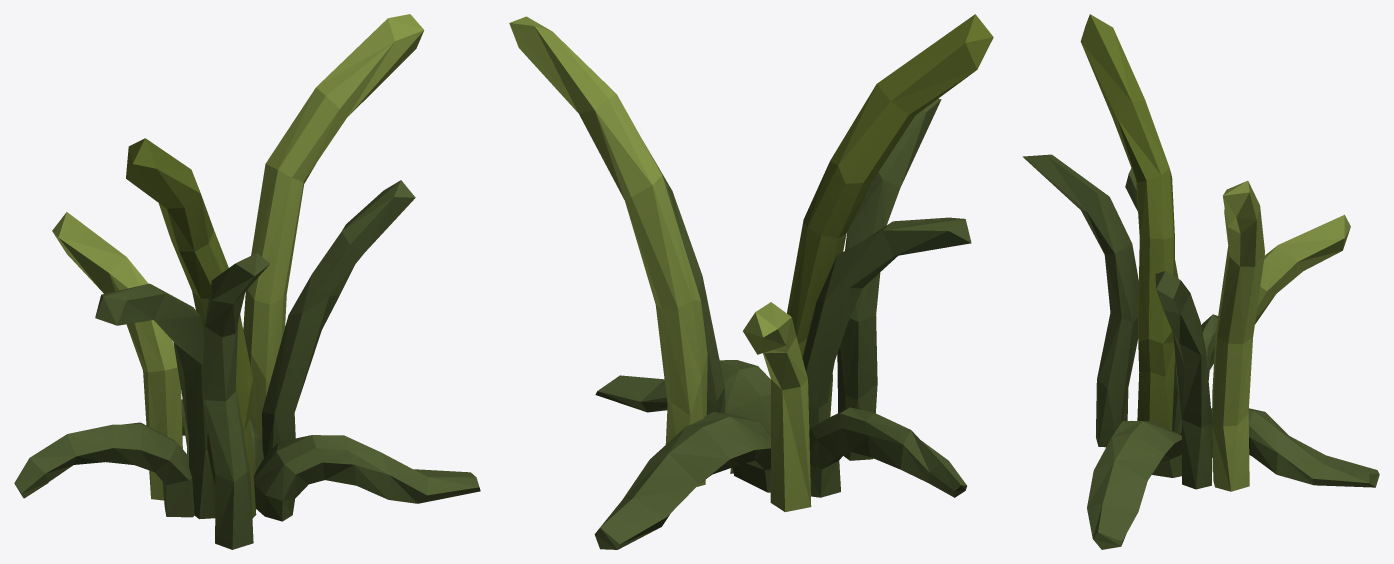
Rendered from swamp_grass_a.glb.
3 views of the same model, side by side, from view 1: azimuth 30°, elevation 25°; view 2: azimuth 150°, elevation 25°; view 3: azimuth 270°, elevation 25° (orthographic). The views are drawn at different scales.
Size of the model in its own units: 0.933 by 0.95 by 0.7916.
